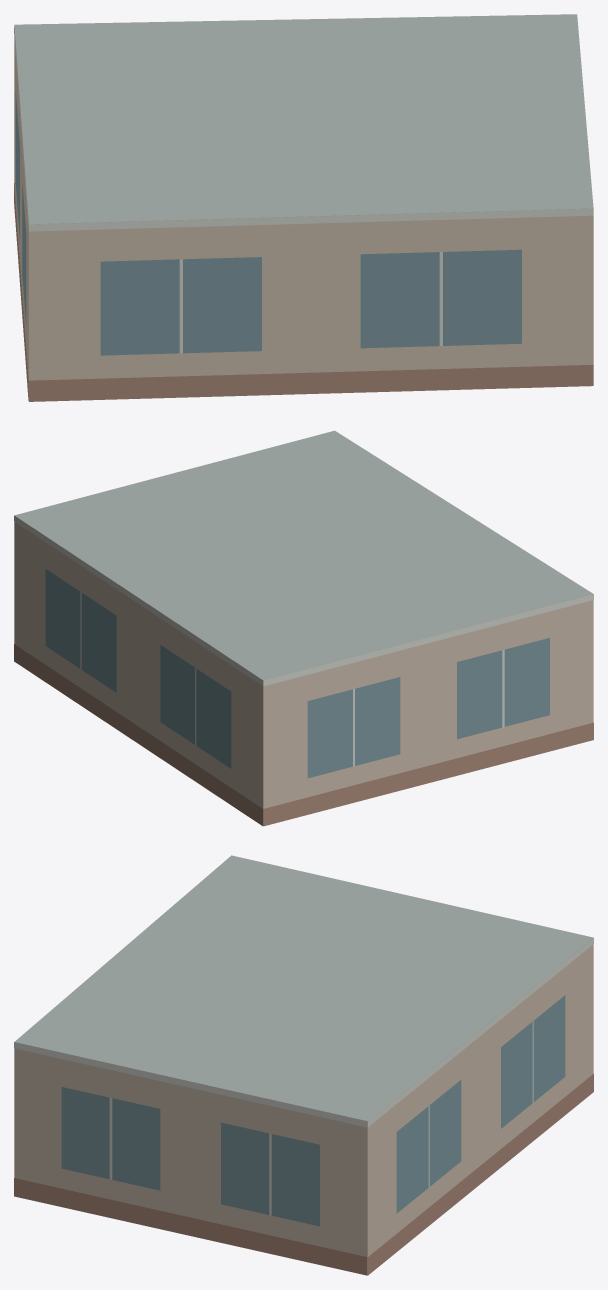
Rendered from survey-upis-32645318.glb.
3 renders of one model, top to bottom at view 1: azimuth 30°, elevation 25°; view 2: azimuth 150°, elevation 25°; view 3: azimuth 270°, elevation 25°, orthographic. The views are drawn at different scales.
Parts seen in each view (by area): view 1: survey-upis-32645318.tmp; view 2: survey-upis-32645318.tmp; view 3: survey-upis-32645318.tmp.
Part boxes in pixels (left/top/right/bottom): survey-upis-32645318.tmp: left=14, top=14, right=593, bottom=401; survey-upis-32645318.tmp: left=14, top=430, right=593, bottom=826; survey-upis-32645318.tmp: left=14, top=855, right=593, bottom=1275.
Bounding box in the file's own units: 11.28 × 3.05 × 10.39.
